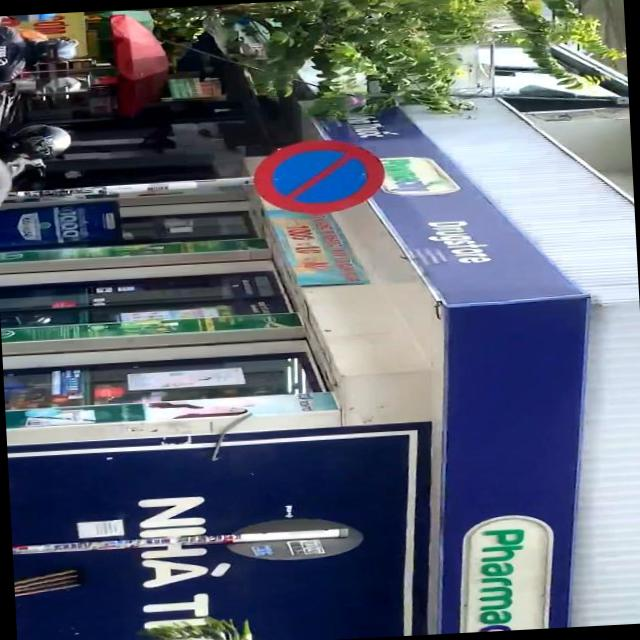P-131a: (251, 138, 388, 218)
